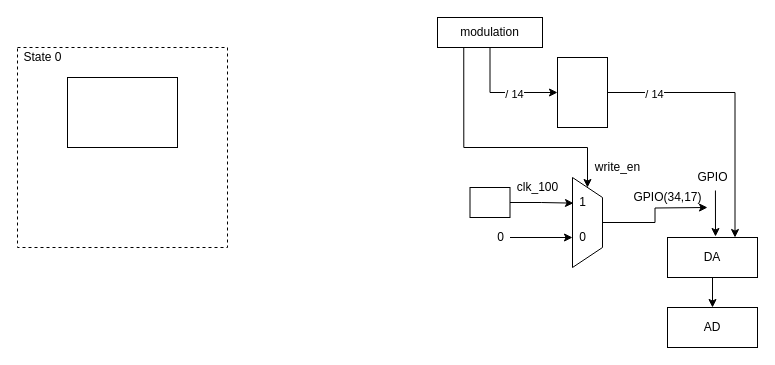
Image size: 775x365. Some labels were removed from this diagram. The centre of each missing label's shape, as x and y in pixels:
"pll" goes at pixel 489 202.
"reg" goes at pixel 582 92.
